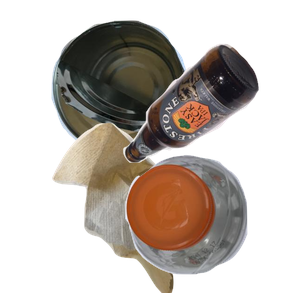glass: (120, 41, 300, 196)
metal: (49, 18, 229, 164)
plastic: (123, 152, 300, 300)
trash: (50, 120, 219, 300)
